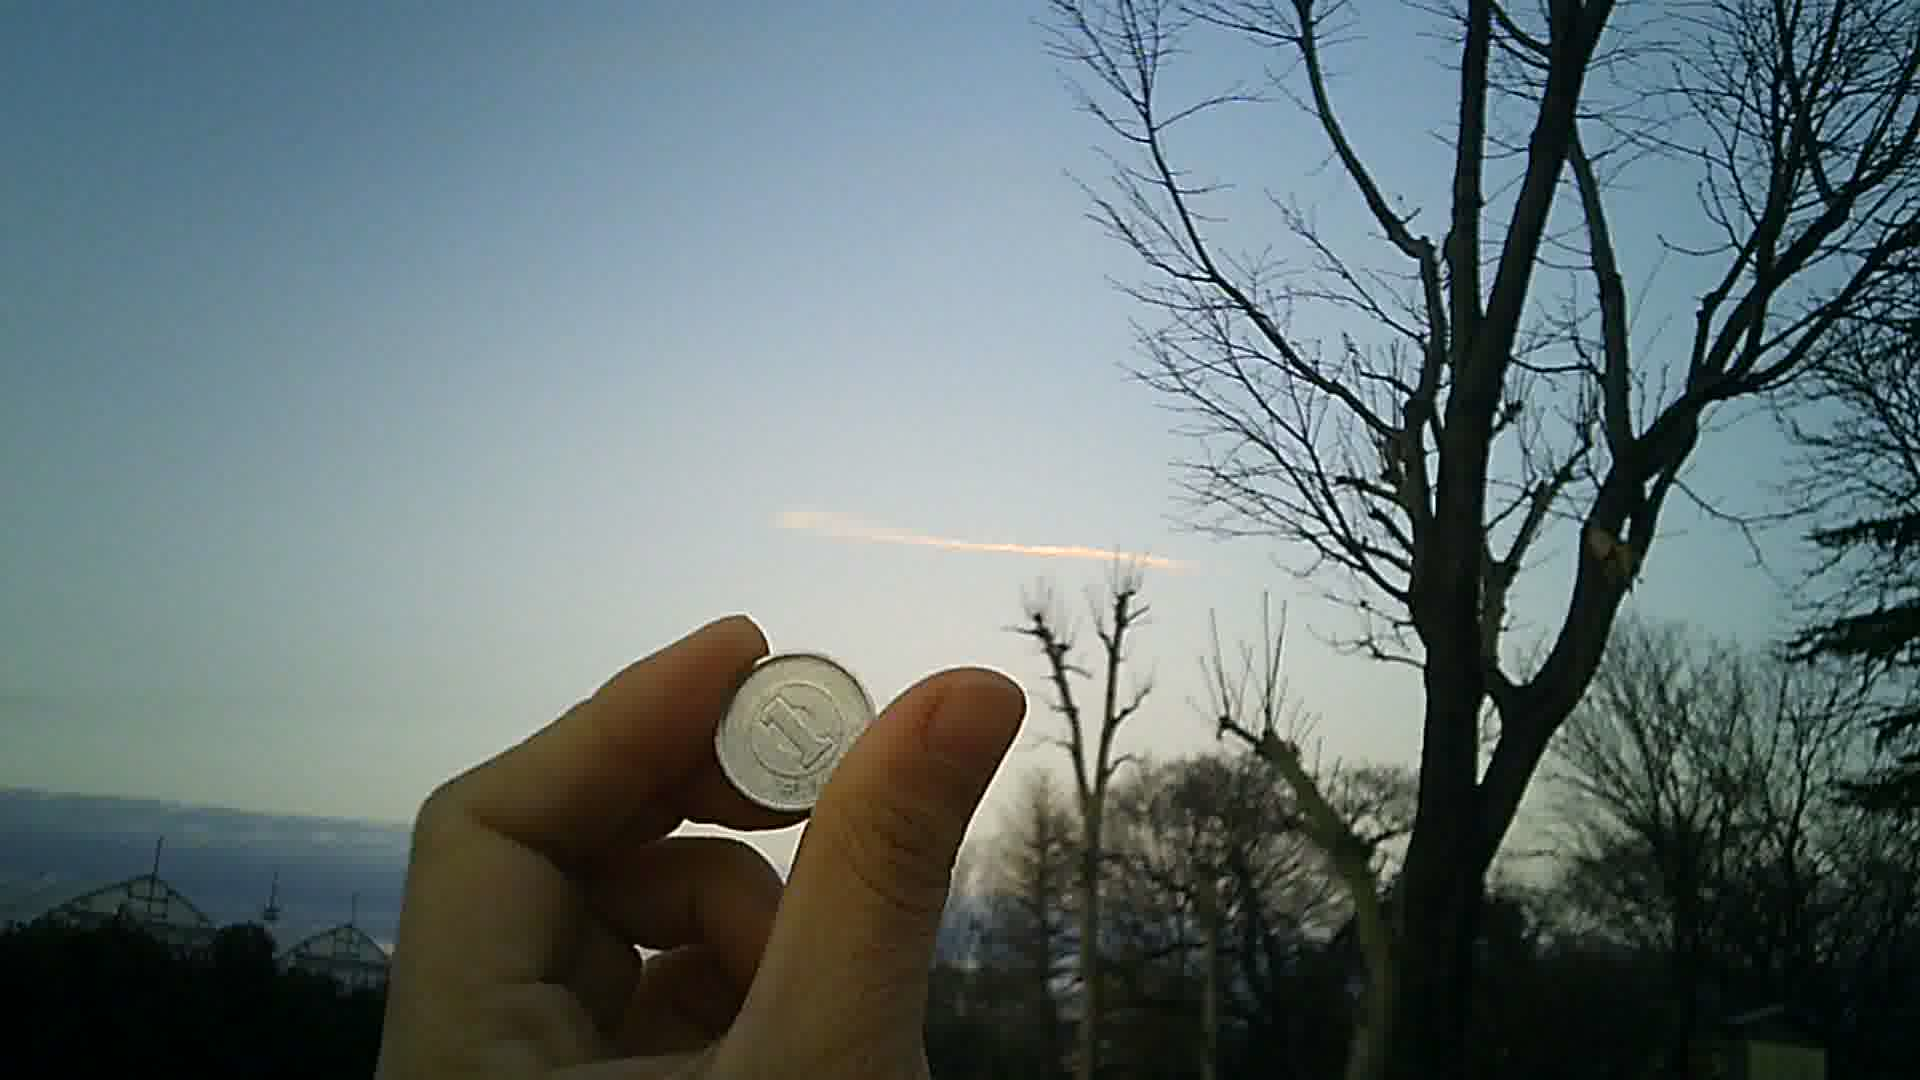1 Yen: (698, 647, 898, 827)
